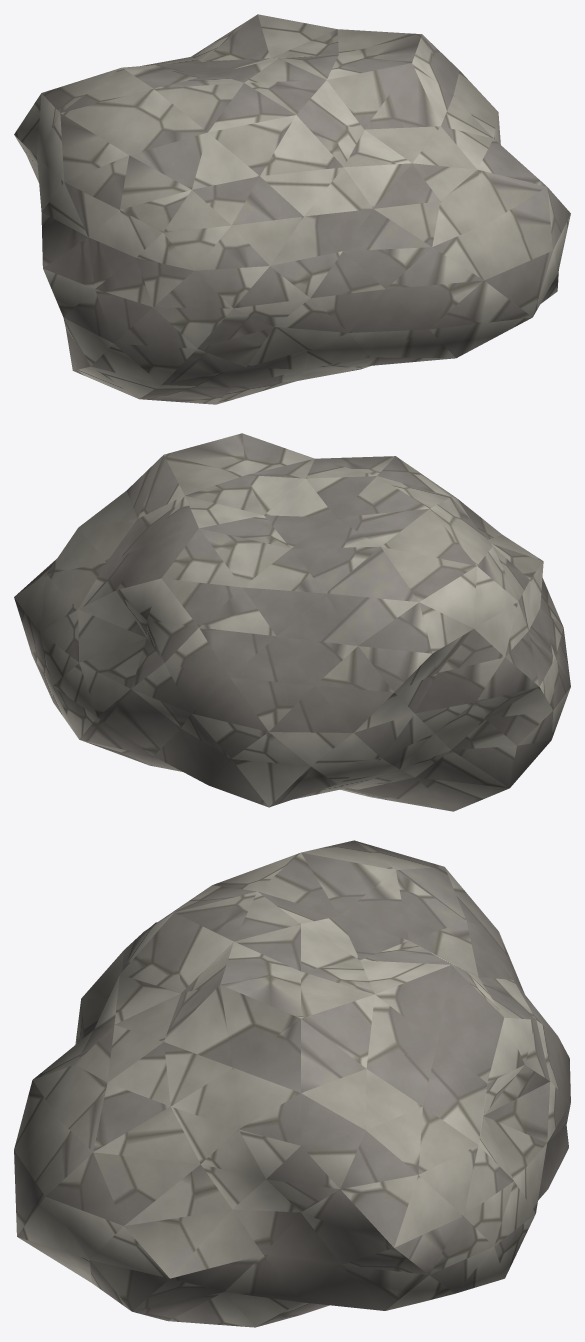
File: rock.glb
The picture shows the model from 3 angles, top to bottom: view 1: azimuth 30°, elevation 25°; view 2: azimuth 150°, elevation 25°; view 3: azimuth 270°, elevation 25°; orthographic projection. The views are drawn at different scales.
Visible parts, largest first — view 1: rock; view 2: rock; view 3: rock.
Boxes of the visible parts, x1,y1,x2,y2 form: rock: [14, 14, 570, 404]; rock: [14, 433, 570, 811]; rock: [14, 840, 570, 1327].
Size of the model in its own units: 1.99 by 1.2 by 1.68.
Materials: 1 (1 with a texture image).
